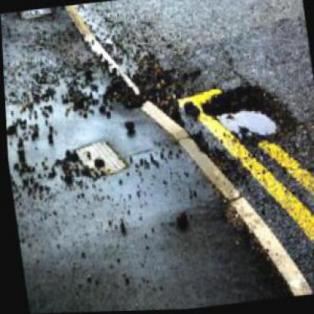Hueco: (197, 78, 298, 151)
